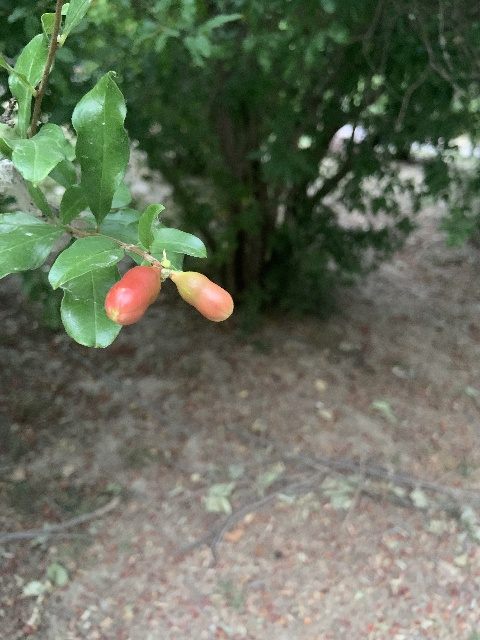bud: (104, 264, 160, 326), (170, 270, 233, 322)
